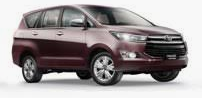car: (9, 2, 190, 89)
